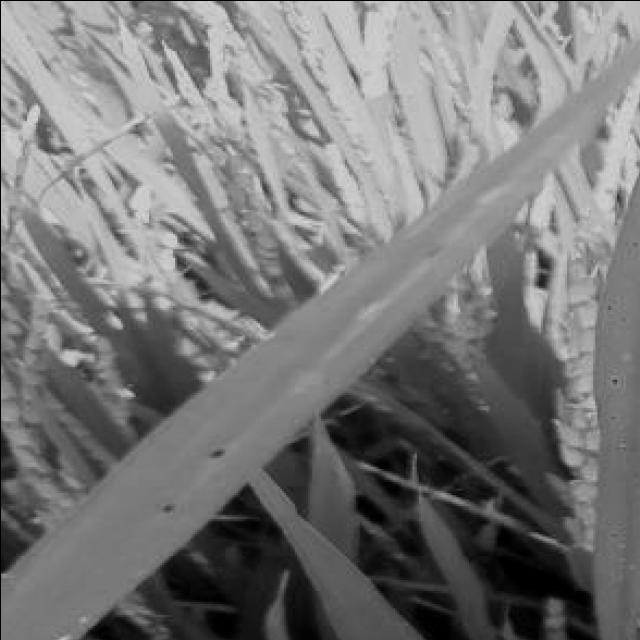Brown_Spot: (152, 492, 188, 518), (204, 436, 236, 464), (605, 368, 629, 386), (612, 309, 632, 327), (600, 298, 620, 312), (627, 230, 640, 248), (606, 407, 620, 422)
